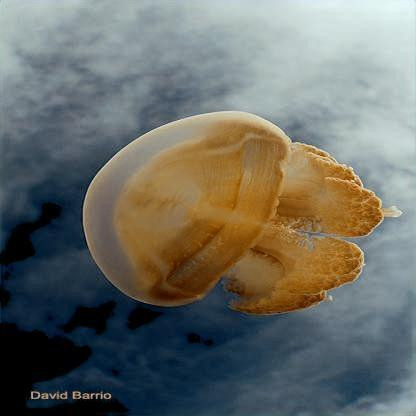Handstand: (77, 110, 407, 317)
